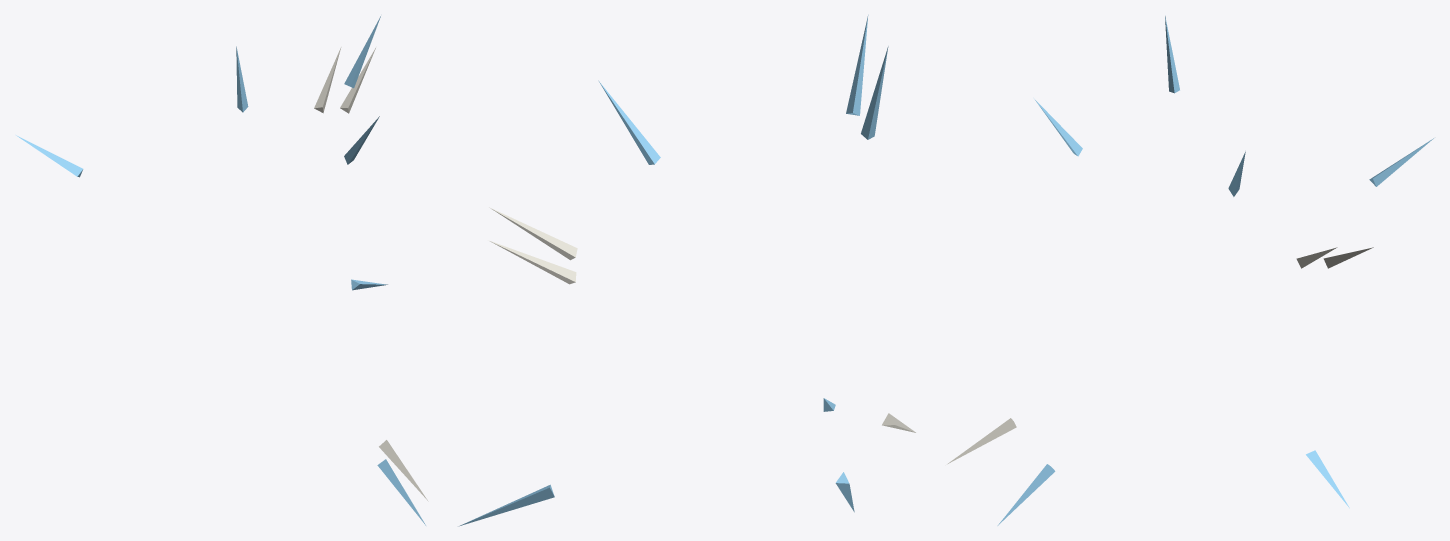
Rendered from frame_5.glb.
3 views of the same model, side by side, from view 1: azimuth 30°, elevation 25°; view 2: azimuth 150°, elevation 25°; view 3: azimuth 270°, elevation 25° (orthographic). The views are drawn at different scales.
Visible parts, largest first — view 1: effect_electric_spark_frame_5; view 2: effect_electric_spark_frame_5; view 3: effect_electric_spark_frame_5.
Part boxes in pixels (bbox=[...]): effect_electric_spark_frame_5: bbox=[16, 16, 428, 525]; effect_electric_spark_frame_5: bbox=[458, 15, 915, 526]; effect_electric_spark_frame_5: bbox=[947, 15, 1433, 525].
Bounding box in the file's own units: 7.27 × 9.35 × 9.06.
